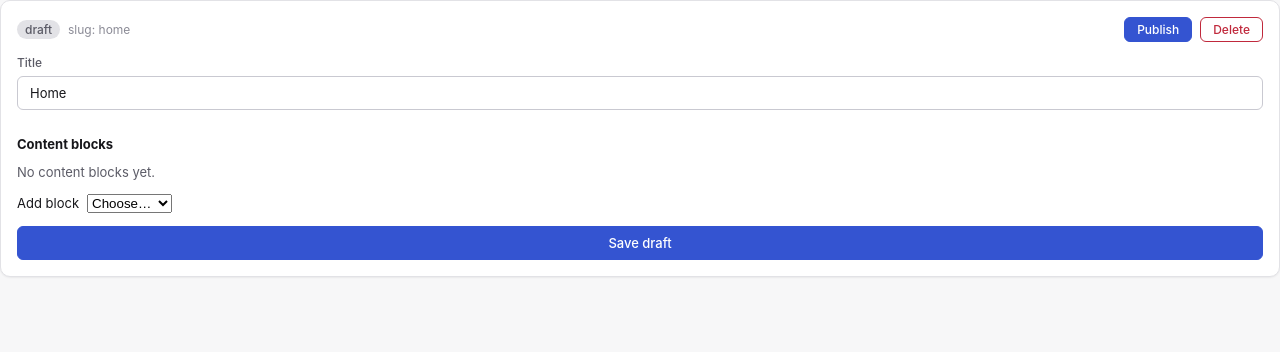
PageDetailCard › shows the backend's own error verbatim on a failed publish
Click the button "Publish".
click(1158, 30)  # box 1124,17 -> 1192,42
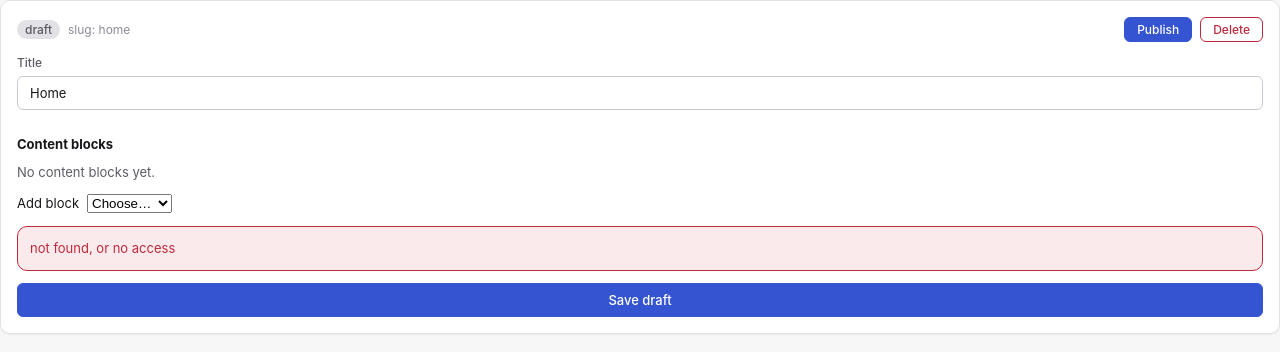
Expected: the text "not found, or no access" is shown, 30,240 -> 175,256
